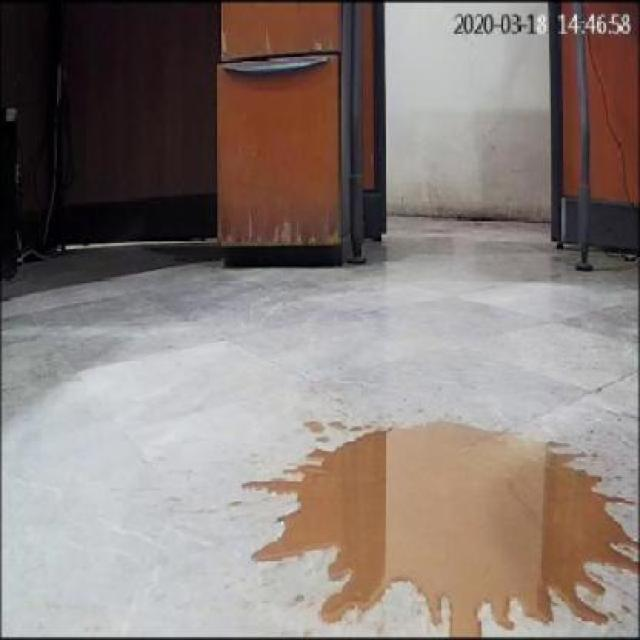spillage: (253, 422, 637, 636)
